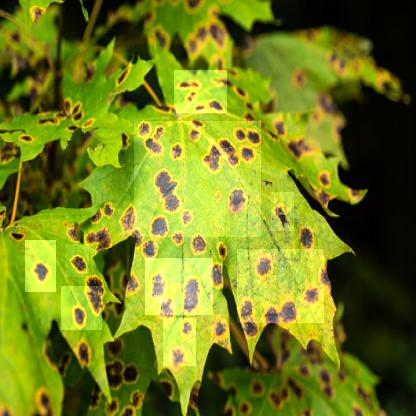black-spot: (134, 121, 261, 237), (237, 249, 324, 323), (145, 258, 213, 315), (174, 70, 227, 113), (61, 286, 102, 330), (25, 240, 56, 292), (163, 318, 196, 366), (271, 192, 294, 231), (65, 244, 89, 277), (210, 314, 228, 338)
